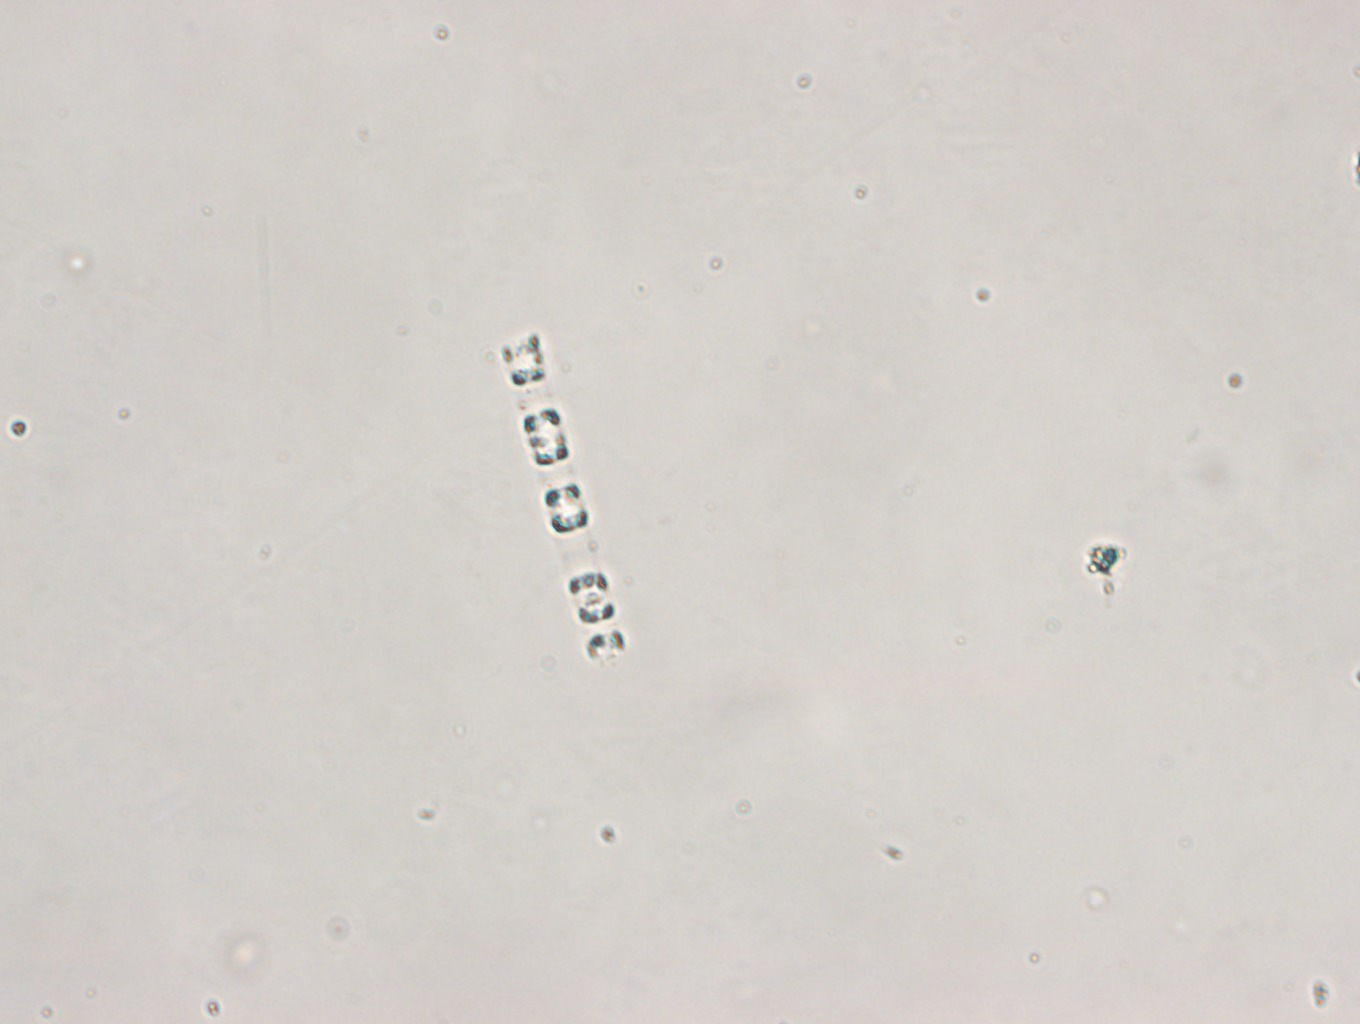skeletonema: (501, 328, 627, 669)
